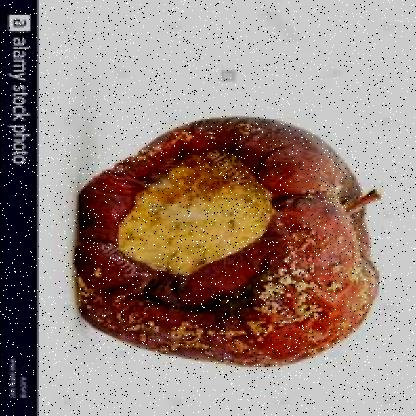damaged_apple: (78, 126, 376, 360)
